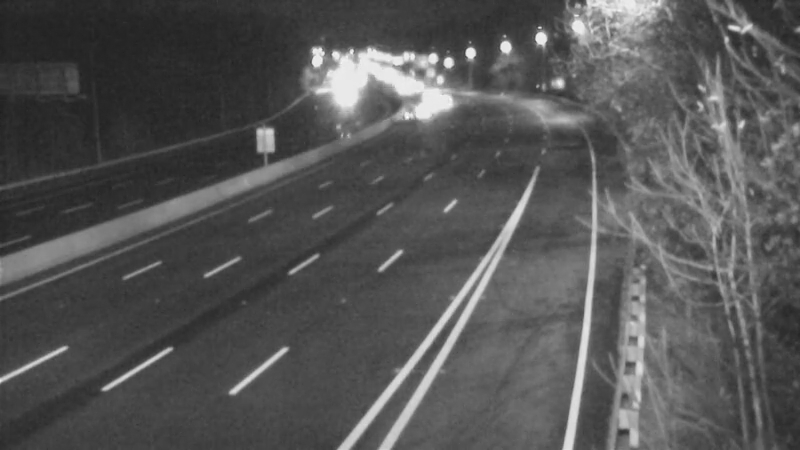vehicle: (418, 75, 468, 125), (396, 83, 446, 133), (383, 77, 433, 127)
